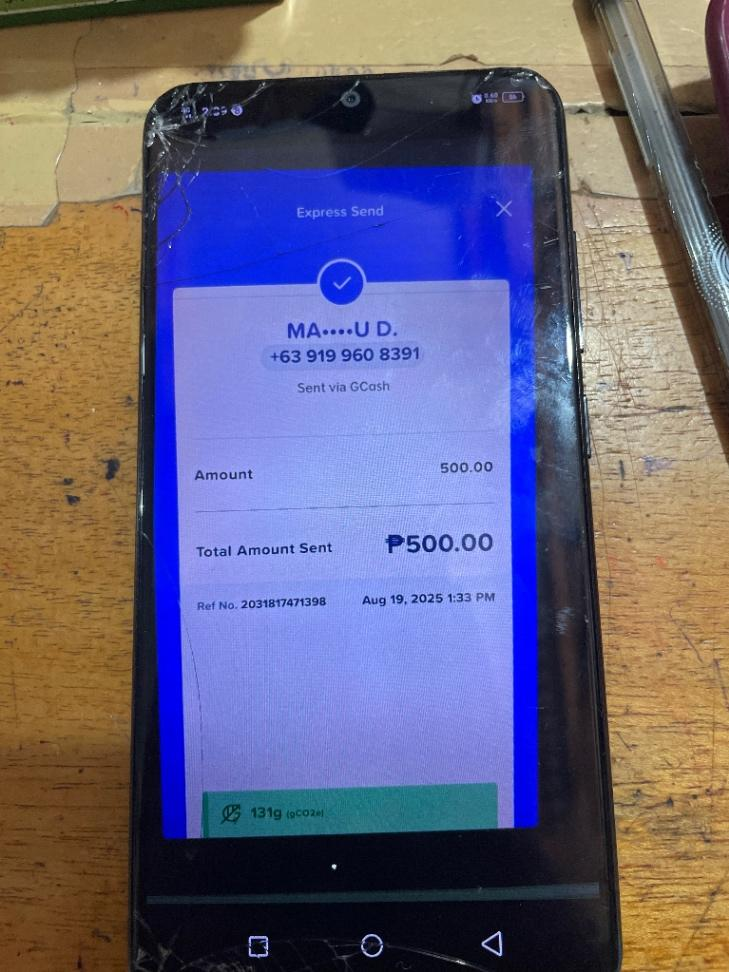Receipt: (161, 171, 541, 836)
